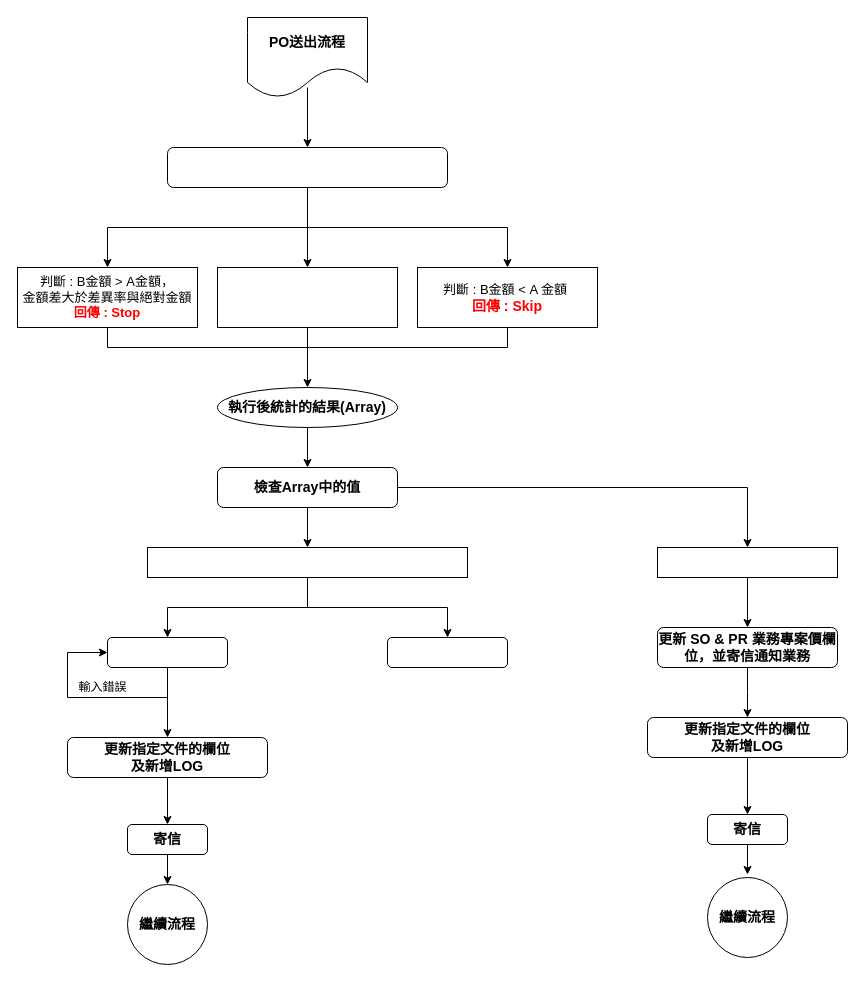
Image size: 865x982. Some labels were removed from this diagram. The shapes that lost their labels are listed below. From the top down, each one's centre as x and y in pixels, then its label:
At (307,167): "判斷A是否在B的差異率內或絕對金額內。".
At (307,297): "判斷 : B金額 > A金額 金額差在差異率或絕對金額內 回傳 : Upd".
At (307,562): "Array中有 Stop 則彈框詢問需要寄信or輸入驗證碼".
At (747,562): "Array中只有 Upd or Skip".
At (167,652): "輸入驗證碼".
At (447,652): "寄OTP驗證碼".
